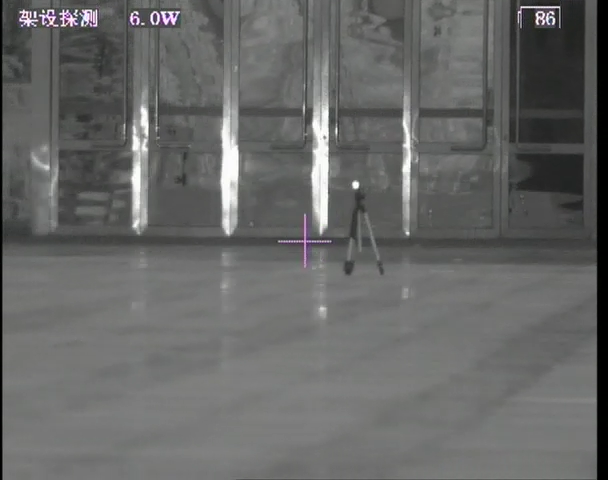my: (349, 178, 361, 192)
